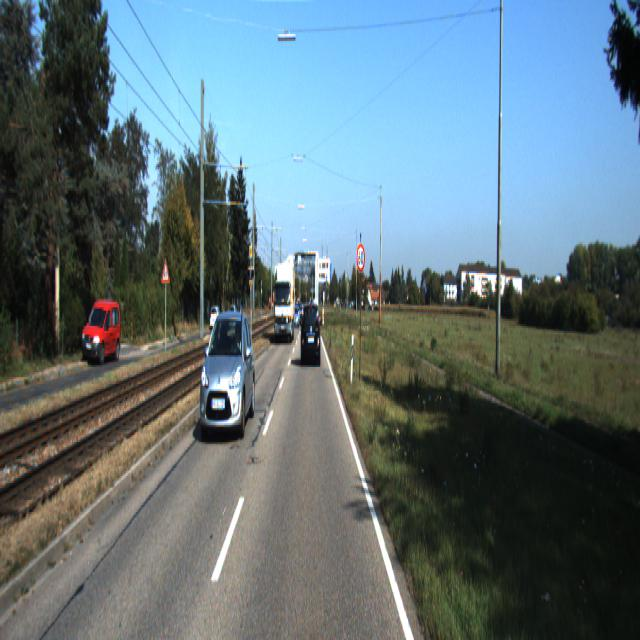Car: (201, 309, 257, 445), (82, 298, 121, 368), (274, 261, 295, 347), (302, 301, 322, 368), (210, 306, 222, 332)
